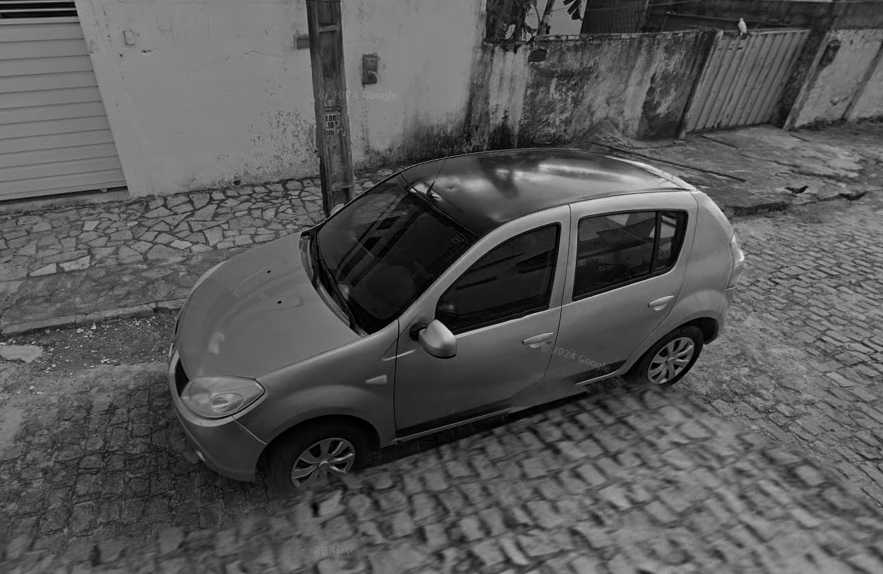car: (164, 144, 748, 503)
